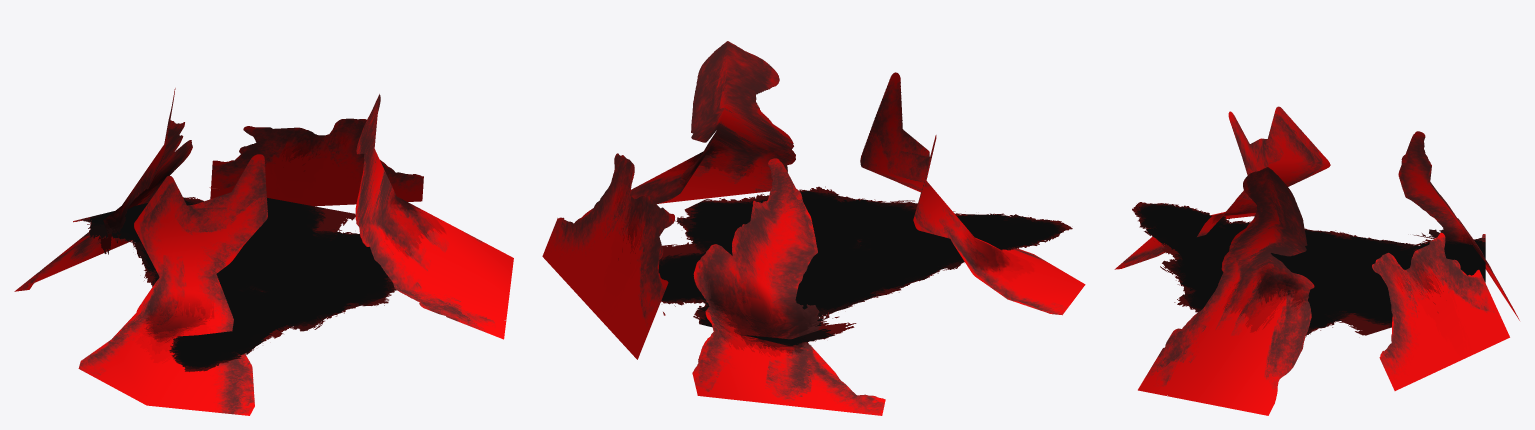
The model's file is BentMetal.fbx.
3 views of the same model, side by side, from view 1: azimuth 30°, elevation 25°; view 2: azimuth 150°, elevation 25°; view 3: azimuth 270°, elevation 25° (orthographic). The views are drawn at different scales.
Visible parts, largest first — view 1: polySurface3; view 2: polySurface3; view 3: polySurface3.
Part boxes in pixels (bbox=[...]): polySurface3: bbox=[14, 88, 513, 415]; polySurface3: bbox=[542, 41, 1085, 415]; polySurface3: bbox=[1114, 106, 1519, 415].
Size of the model in its own units: 0.9625 by 0.5446 by 0.8043.
